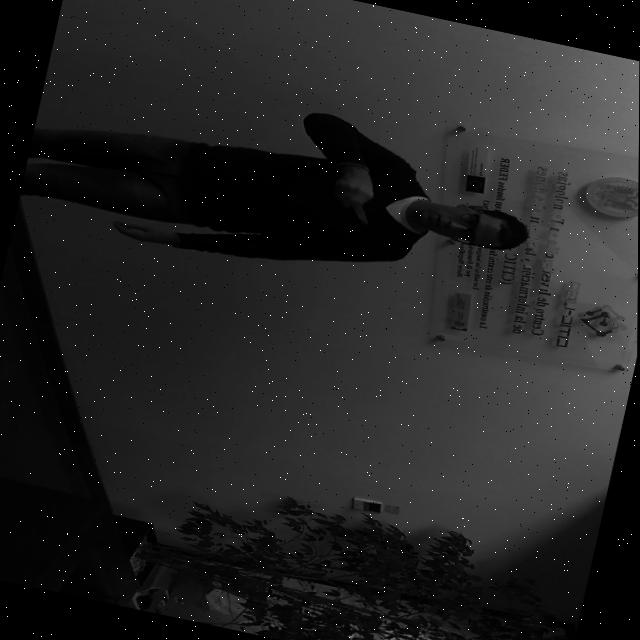knife: (348, 203, 373, 226)
